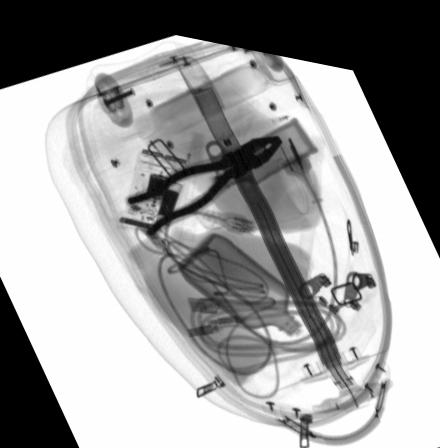Pliers: (125, 123, 282, 231)
